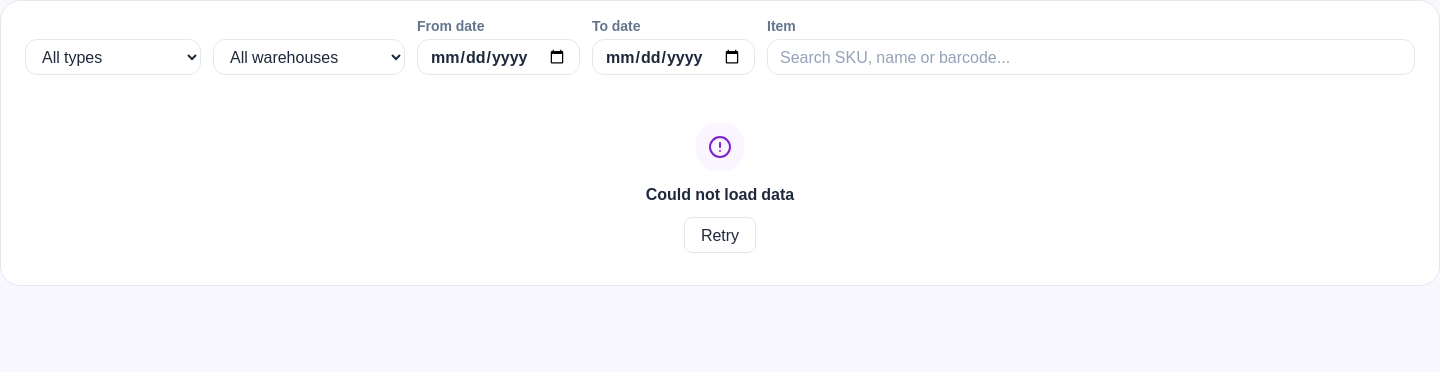
Test: StockMovements › load ລົ້ມ: ມີປຸ່ມລອງໃໝ່ ແລະ ດຶງໃໝ່ໄດ້
Expected: the text "Could not load data" is shown, top-left (646, 183), bottom-right (794, 205)
What coordinates should you click on to do the following:
click the button "Retry"
I would click on:
 (720, 235)
Its box is top-left (684, 217), bottom-right (756, 253).
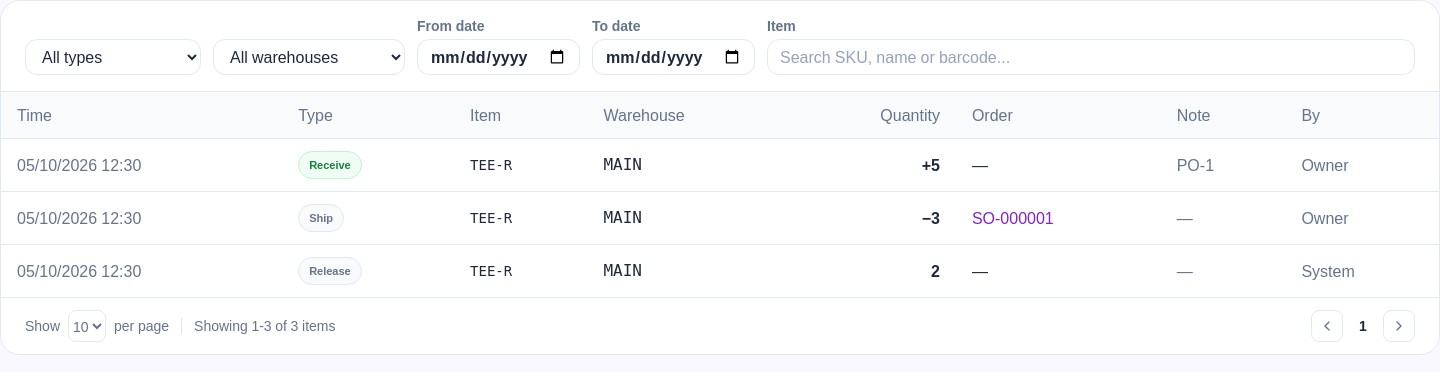
Expected: the row with test id "row-movement-m1" is shown, top-left (1, 138), bottom-right (1439, 192)
